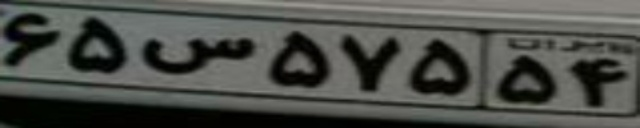4: (567, 57, 629, 108)
5: (63, 15, 129, 73), (408, 38, 472, 96), (268, 30, 330, 87), (491, 55, 560, 104)
6: (1, 12, 60, 67)
7: (335, 33, 403, 92)
sin: (140, 34, 256, 76)
